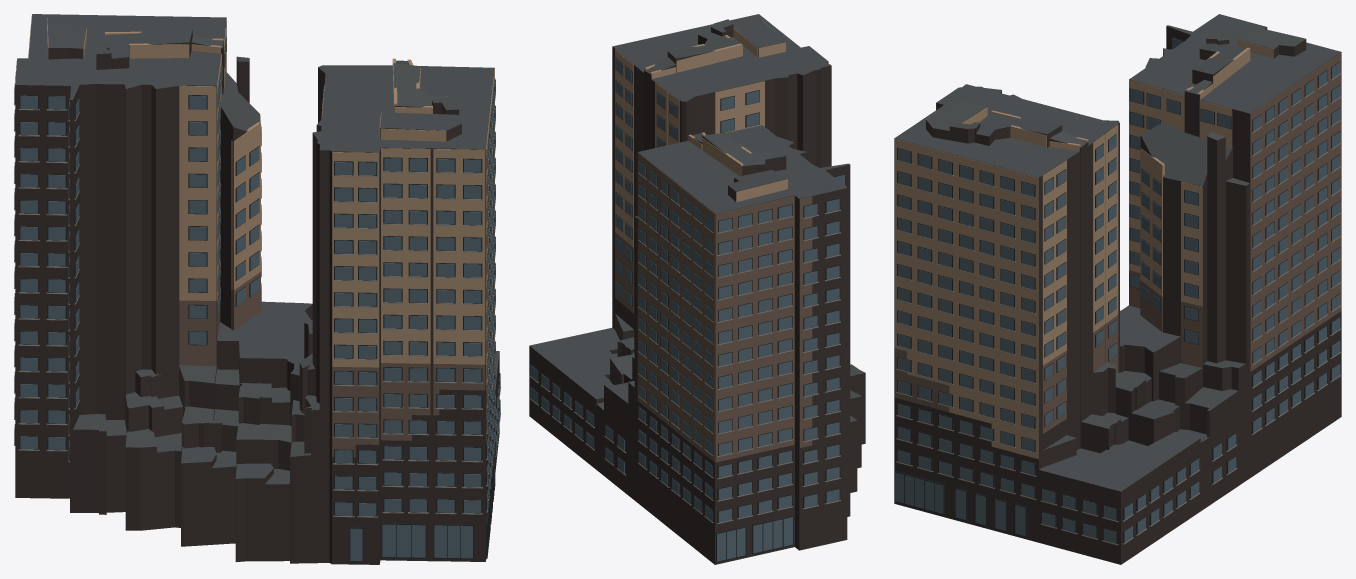
The model's file is grasweg-116.glb.
The picture shows the model from 3 angles, left to right: view 1: azimuth 30°, elevation 25°; view 2: azimuth 150°, elevation 25°; view 3: azimuth 270°, elevation 25°; orthographic projection. The views are drawn at different scales.
Visible parts, largest first — view 1: grasweg-116; view 2: grasweg-116; view 3: grasweg-116.
Part boxes in pixels (box(x1,y1,x2,y2)): grasweg-116: box(14, 14, 500, 564); grasweg-116: box(529, 14, 865, 564); grasweg-116: box(894, 14, 1341, 564).
Bounding box in the file's own units: 52.25 × 49.97 × 53.31.
